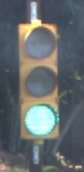Green: (13, 18, 75, 139)
